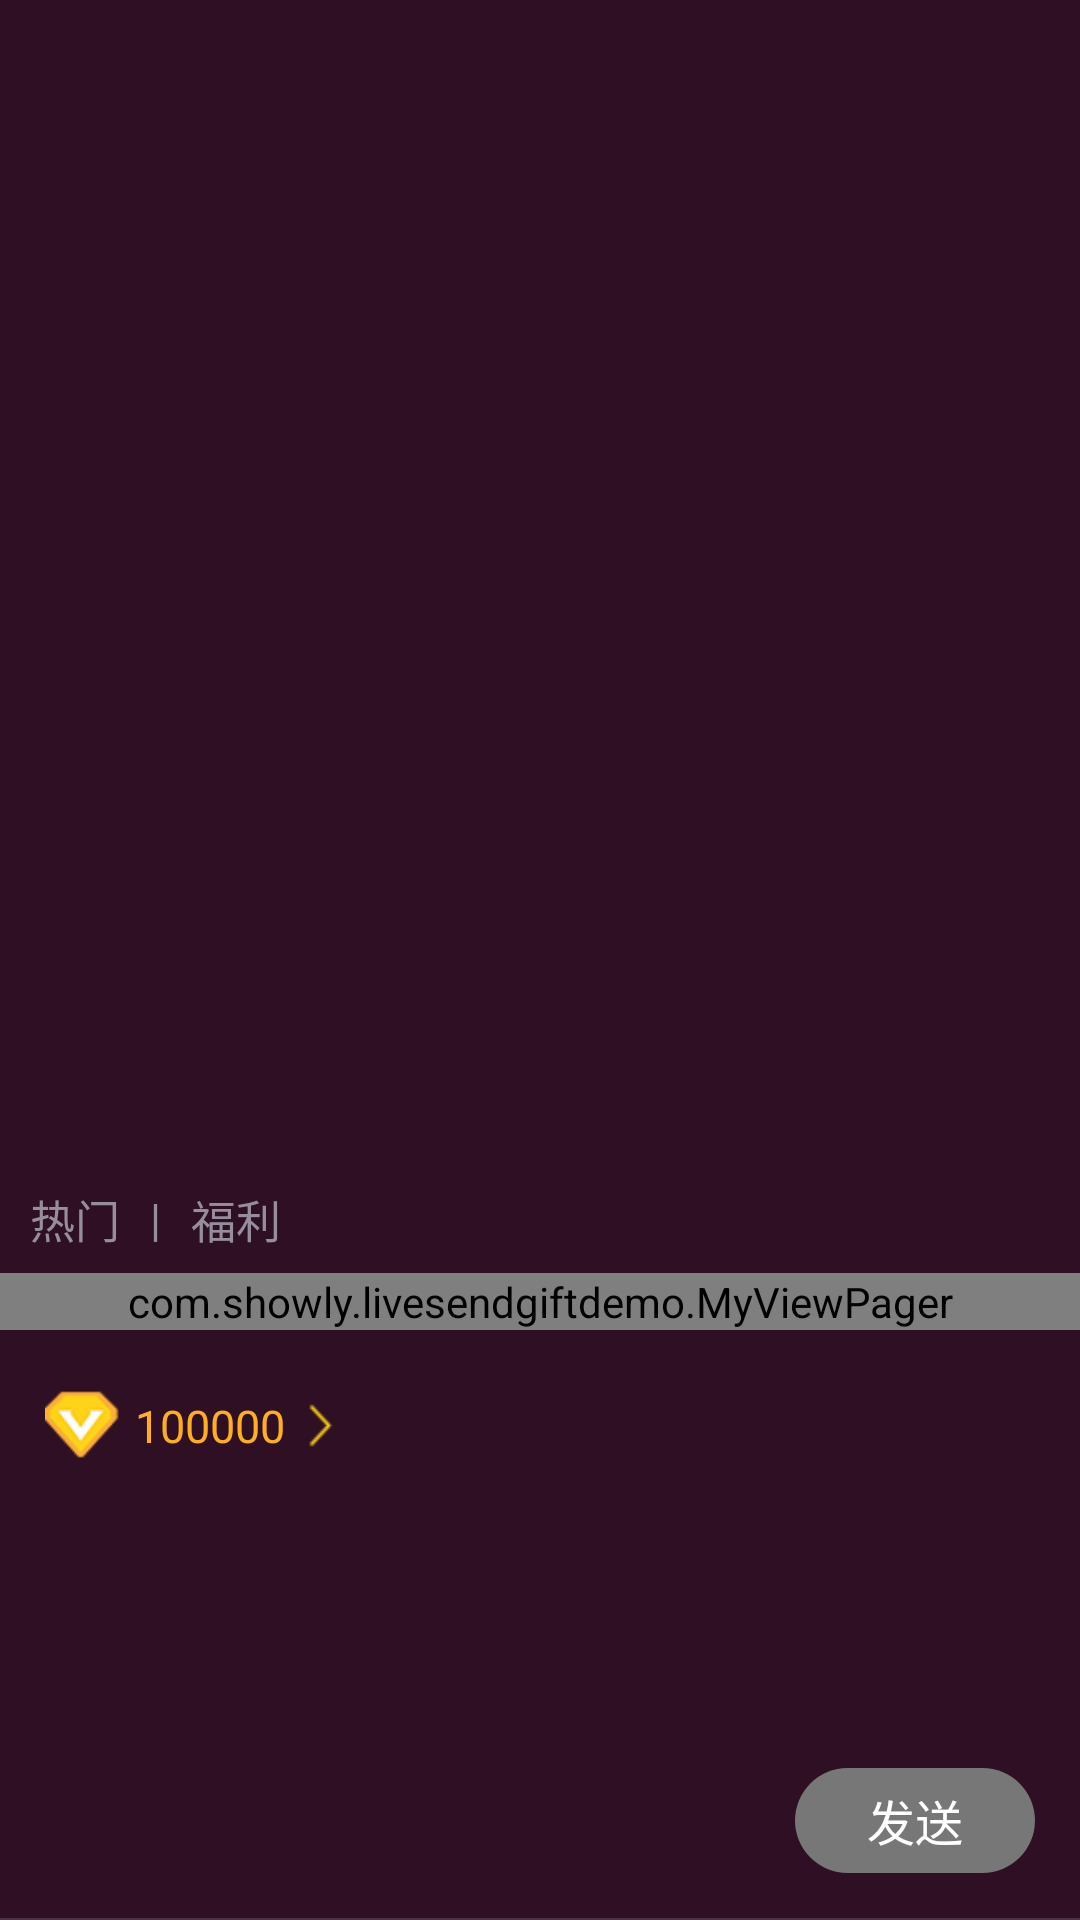

Icon click points for this 1080 × 1920 phone screenshot, format [x,y]:
live gift arrow: [320,1425]
live zuanshi: [82,1424]
